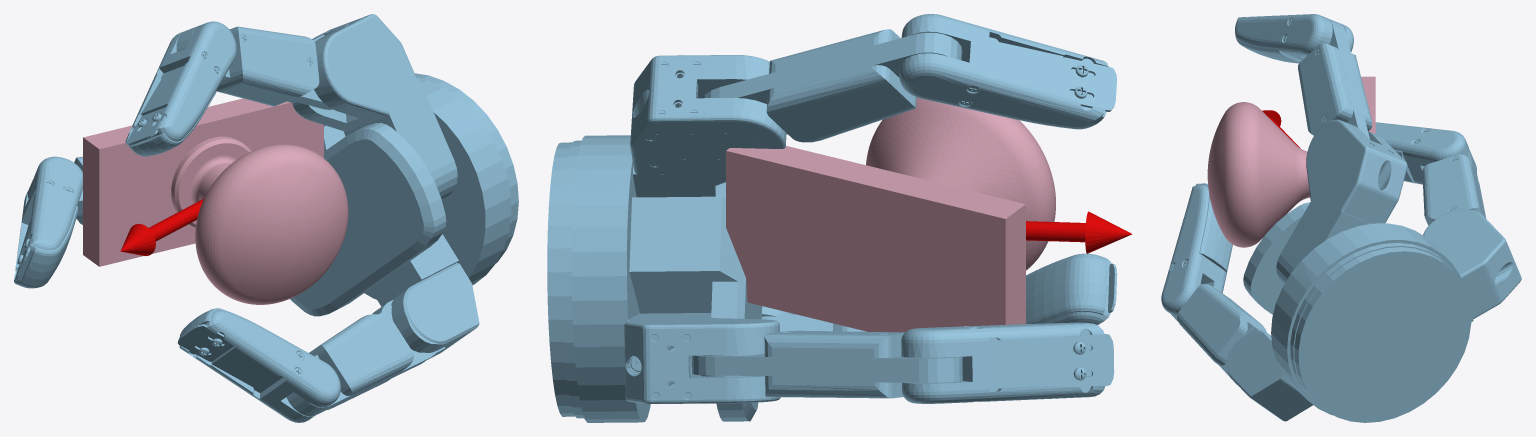
3 renders of one model, left to right at view 1: azimuth 30°, elevation 25°; view 2: azimuth 150°, elevation 25°; view 3: azimuth 270°, elevation 25°, orthographic. The views are drawn at different scales.
Visible parts, largest first — view 1: world, door_knob.stl; view 2: world, door_knob.stl; view 3: world, door_knob.stl.
Part boxes in pixels (x1=…): world: x1=14, y1=14, x2=518, y2=422; door_knob.stl: x1=83, y1=98, x2=348, y2=304; world: x1=547, y1=14, x2=1132, y2=422; door_knob.stl: x1=726, y1=97, x2=1055, y2=332; world: x1=1161, y1=14, x2=1521, y2=422; door_knob.stl: x1=1207, y1=76, x2=1375, y2=247.
Size of the model in its own units: 0.2083 by 0.1557 by 0.1609.
